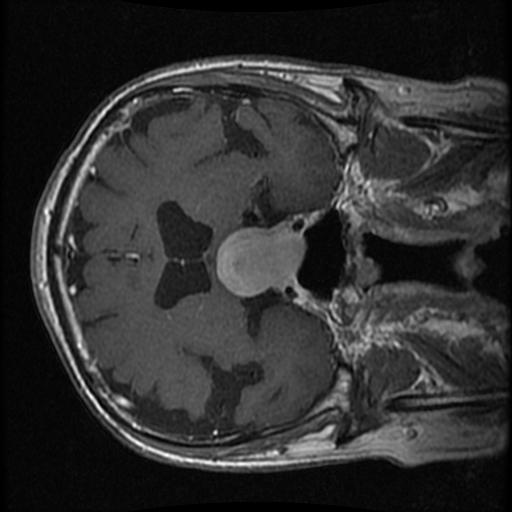pituitary tumour: (216, 213, 305, 297)
